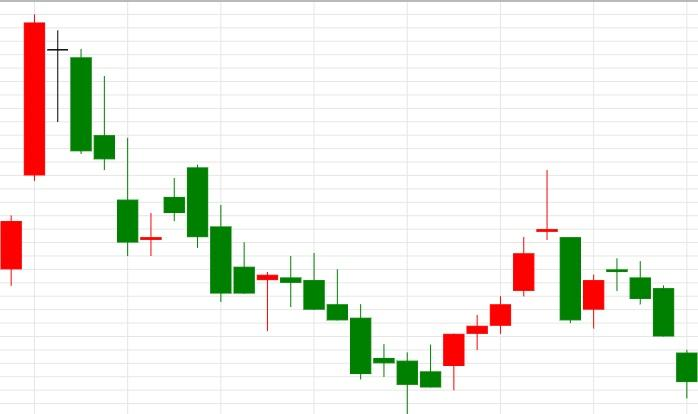evening_star_fall: (444, 171, 581, 390)
